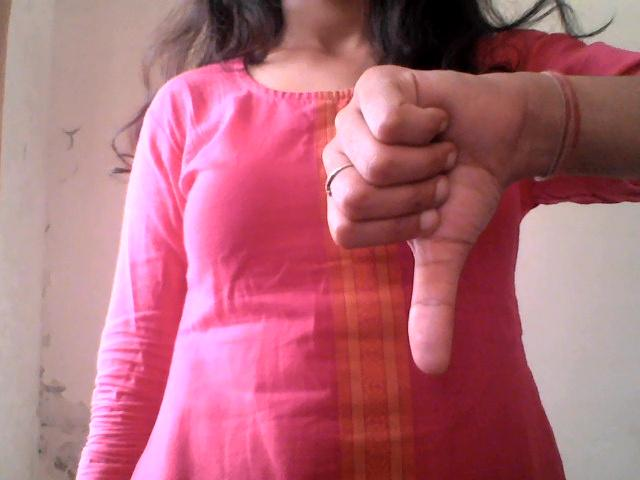thumbs-down: (284, 56, 560, 383)
